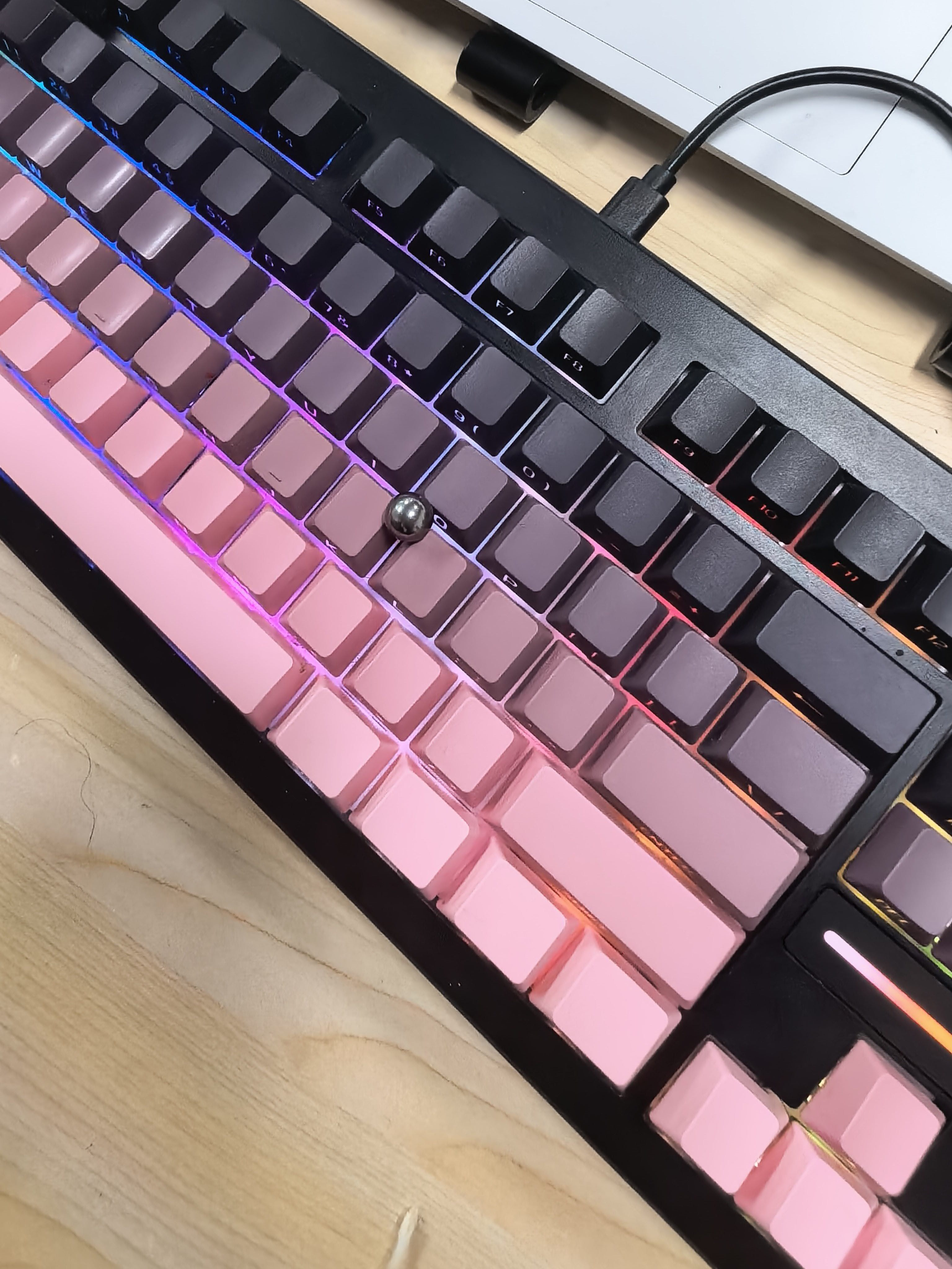ball: (380, 487, 436, 545)
